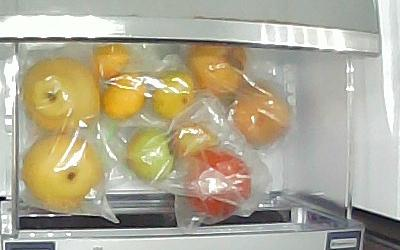peach_vinyl: (234, 83, 291, 148), (186, 41, 249, 95)
pear_vinyl: (22, 55, 99, 135), (23, 134, 103, 210)
tangerine_vinyl: (151, 72, 196, 118), (102, 75, 147, 120), (92, 45, 131, 77)
tomato_vinyl: (183, 148, 252, 219), (126, 124, 174, 183), (169, 121, 223, 155)
